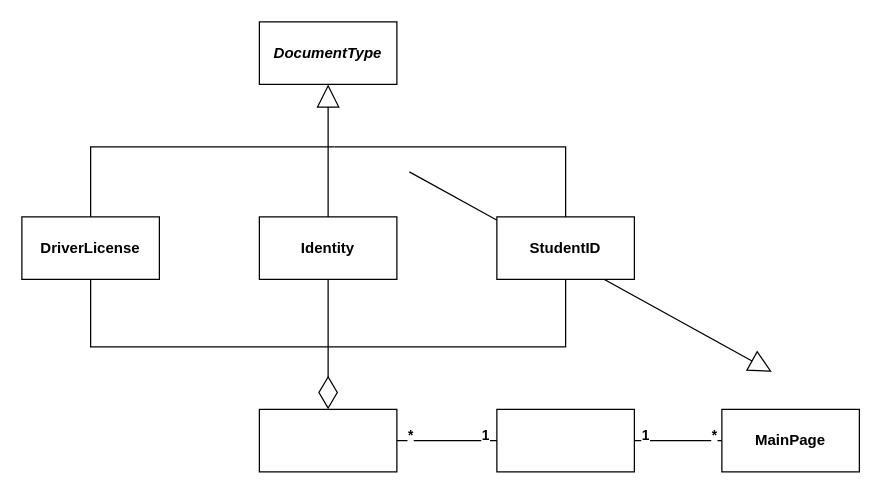
This 881x494 diagram has some shape labels left out. Each missing label, with the centre of its shape:
App: (x=565, y=440)
Container: (x=327, y=440)
